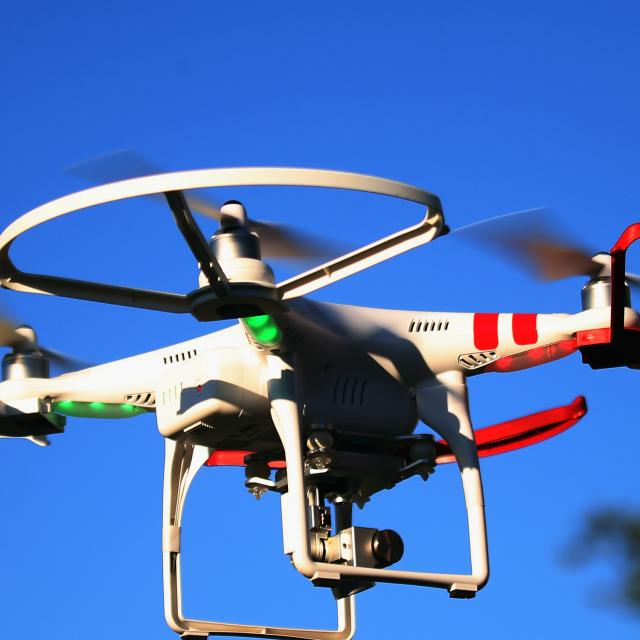drone: (0, 150, 640, 519)
